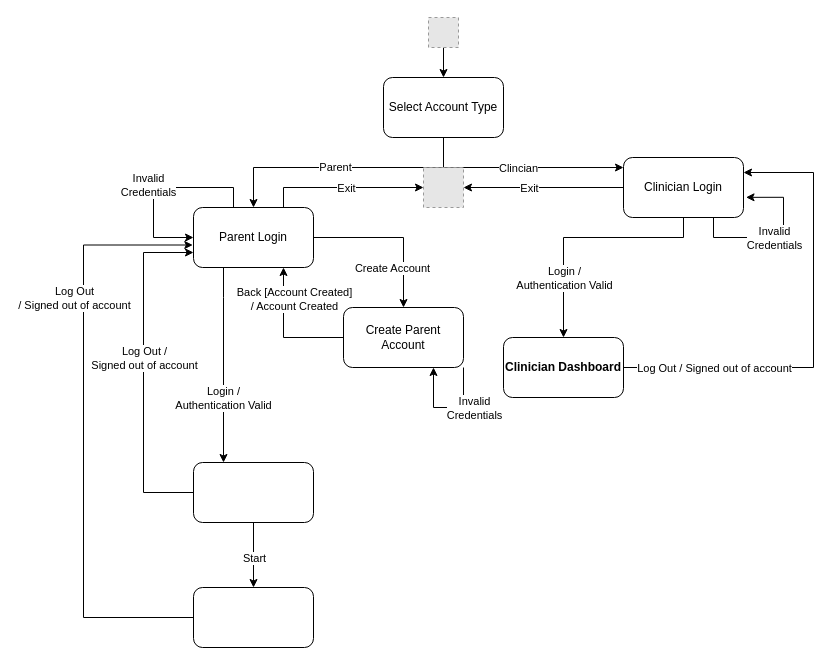
The diagram is 839 pixels wide and 665 high, and some of its shapes have lost their labels. Grey dashed boxes stand in for pictures. The shapes that lost their labels are listed below. From the top down, each one's box as (x1, y1, x2, y2) in pixels, then its label:
(192, 462, 314, 522): Homepage
(192, 586, 314, 648): Assessment
